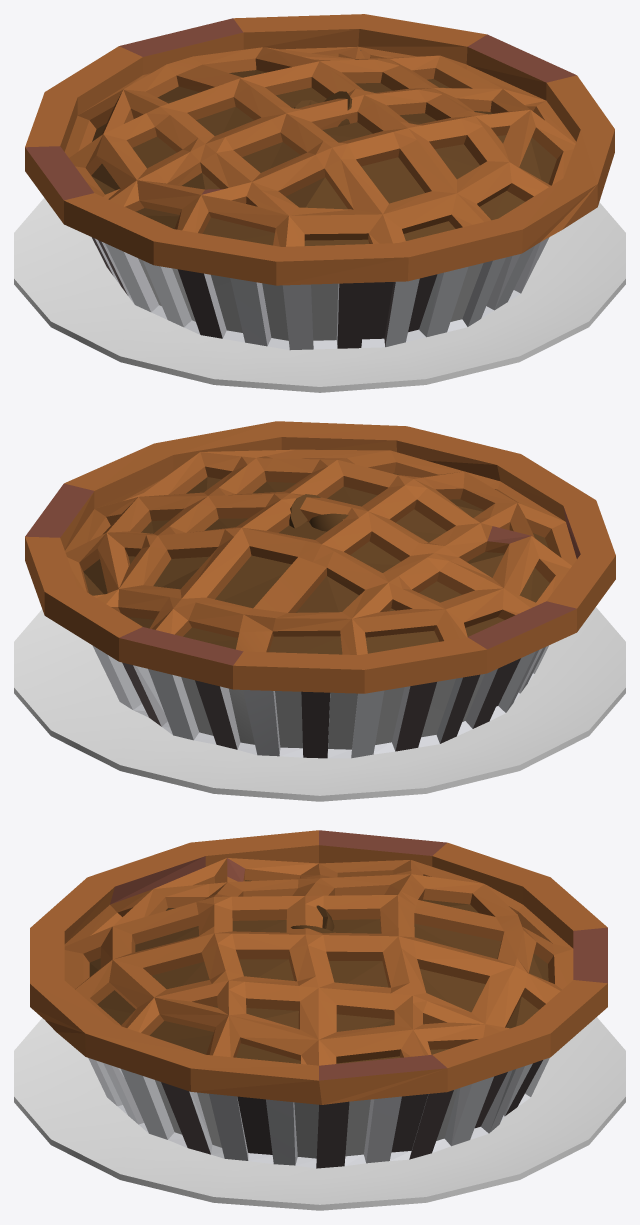
File: tarteB.FBX
3 views of the same model, one above another, from view 1: azimuth 30°, elevation 25°; view 2: azimuth 150°, elevation 25°; view 3: azimuth 270°, elevation 25° (orthographic).
Parts seen in each view (by area): view 1: Cylinder001 (×2); view 2: Cylinder001 (×2); view 3: Cylinder001 (×2).
Boxes of the visible parts, left/top/right/bottom form: Cylinder001 (×2): left=14, top=14, right=625, bottom=392; Cylinder001 (×2): left=14, top=421, right=625, bottom=801; Cylinder001 (×2): left=14, top=830, right=625, bottom=1210.
Size of the model in its own units: 107 by 35.51 by 106.
